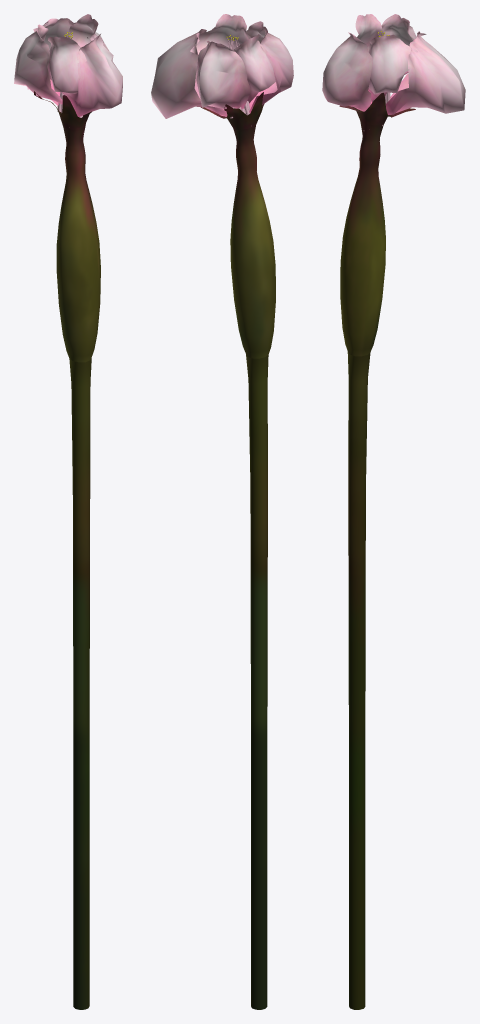
Rendered from flower2.glb.
3 renders of one model, left to right at view 1: azimuth 90°, elevation 25°; view 2: azimuth 150°, elevation 25°; view 3: azimuth 330°, elevation 25°, orthographic.
Parts seen in each view (by area): view 1: Object_2; view 2: Object_2; view 3: Object_2.
Boxes of the visible parts, x1,y1,x2,y2 form: Object_2: (14,14,122,1009); Object_2: (151,14,293,1009); Object_2: (322,14,465,1009).
Bounding box in the file's own units: 0.4981 × 4.06 × 0.4112.
1 material, 1 textured.
